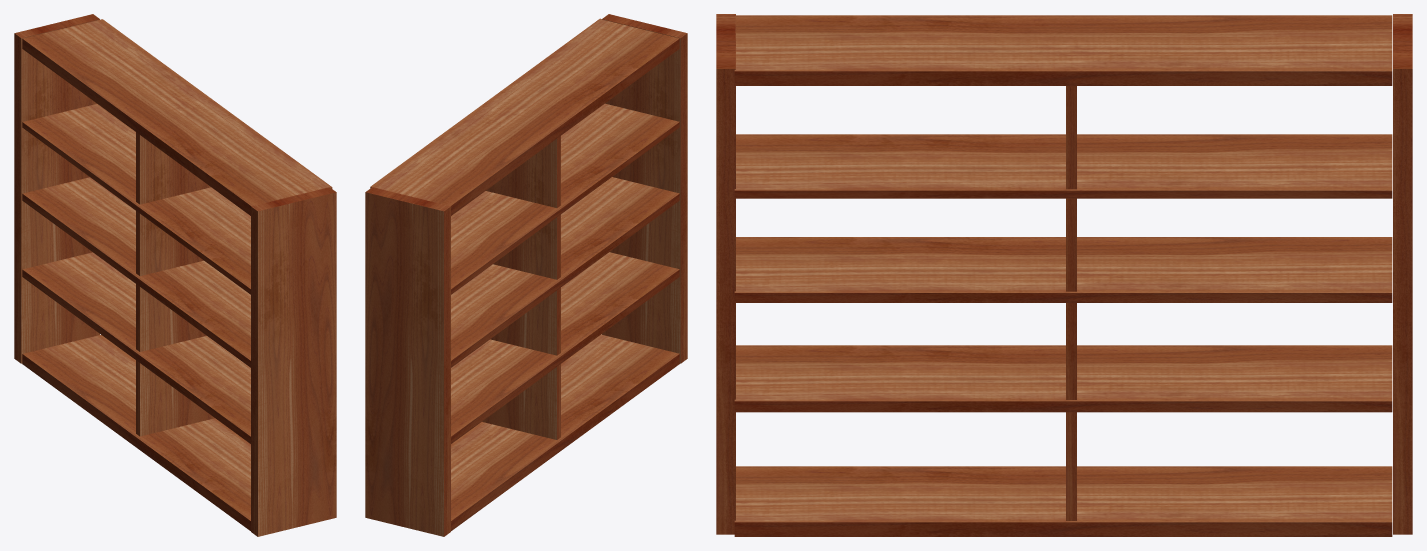
The model's file is WallShelf.fbx.
3 views of the same model, side by side, from view 1: azimuth 30°, elevation 25°; view 2: azimuth 150°, elevation 25°; view 3: azimuth 270°, elevation 25° (orthographic). The views are drawn at different scales.
Visible parts, largest first — view 1: WallShelf; view 2: WallShelf; view 3: WallShelf.
Boxes of the visible parts, box(x1,y1,x2,y2) form: WallShelf: box(14, 14, 336, 536); WallShelf: box(365, 14, 687, 536); WallShelf: box(716, 14, 1412, 536).
Size of the model in its own units: 38.68 by 149 by 201.
